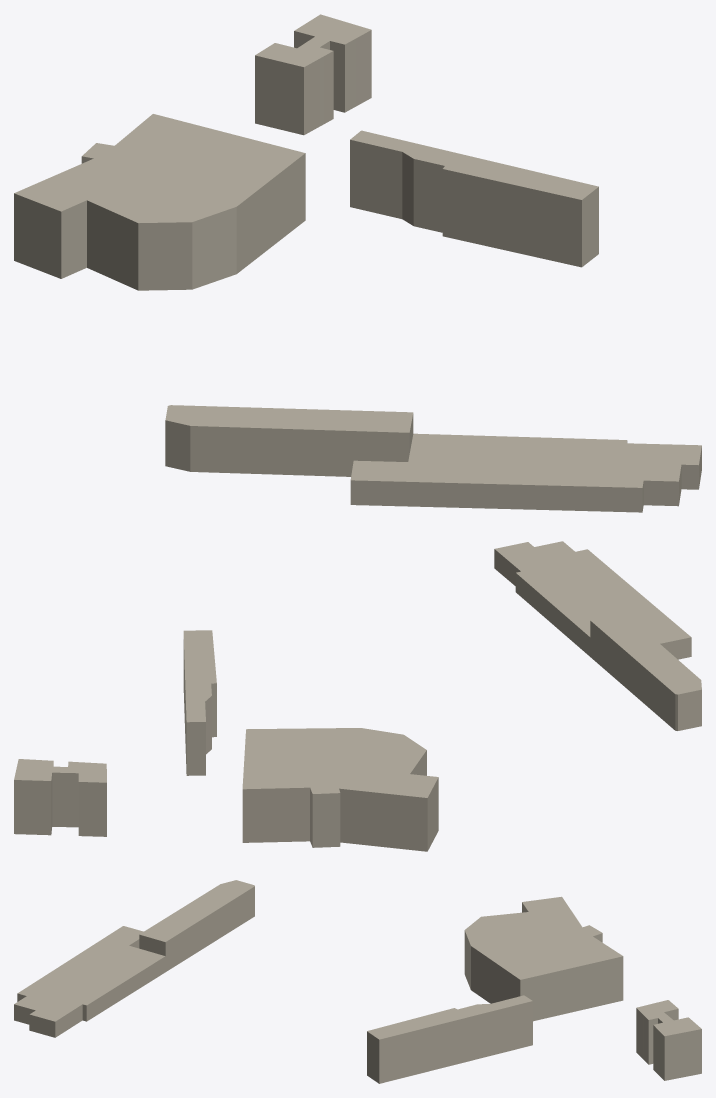
Rendered from senglea_58_28_mid.glb.
3 renders of one model, top to bottom at view 1: azimuth 30°, elevation 25°; view 2: azimuth 150°, elevation 25°; view 3: azimuth 270°, elevation 25°, orthographic. The views are drawn at different scales.
Parts seen in each view (by area): view 1: geometry_0; view 2: geometry_0; view 3: geometry_0.
Part boxes in pixels (x1,y1,x2,y2): geometry_0: (14, 14, 701, 512); geometry_0: (14, 541, 701, 851); geometry_0: (14, 880, 701, 1083).
Size of the model in its own units: 85.35 by 10.24 by 143.
